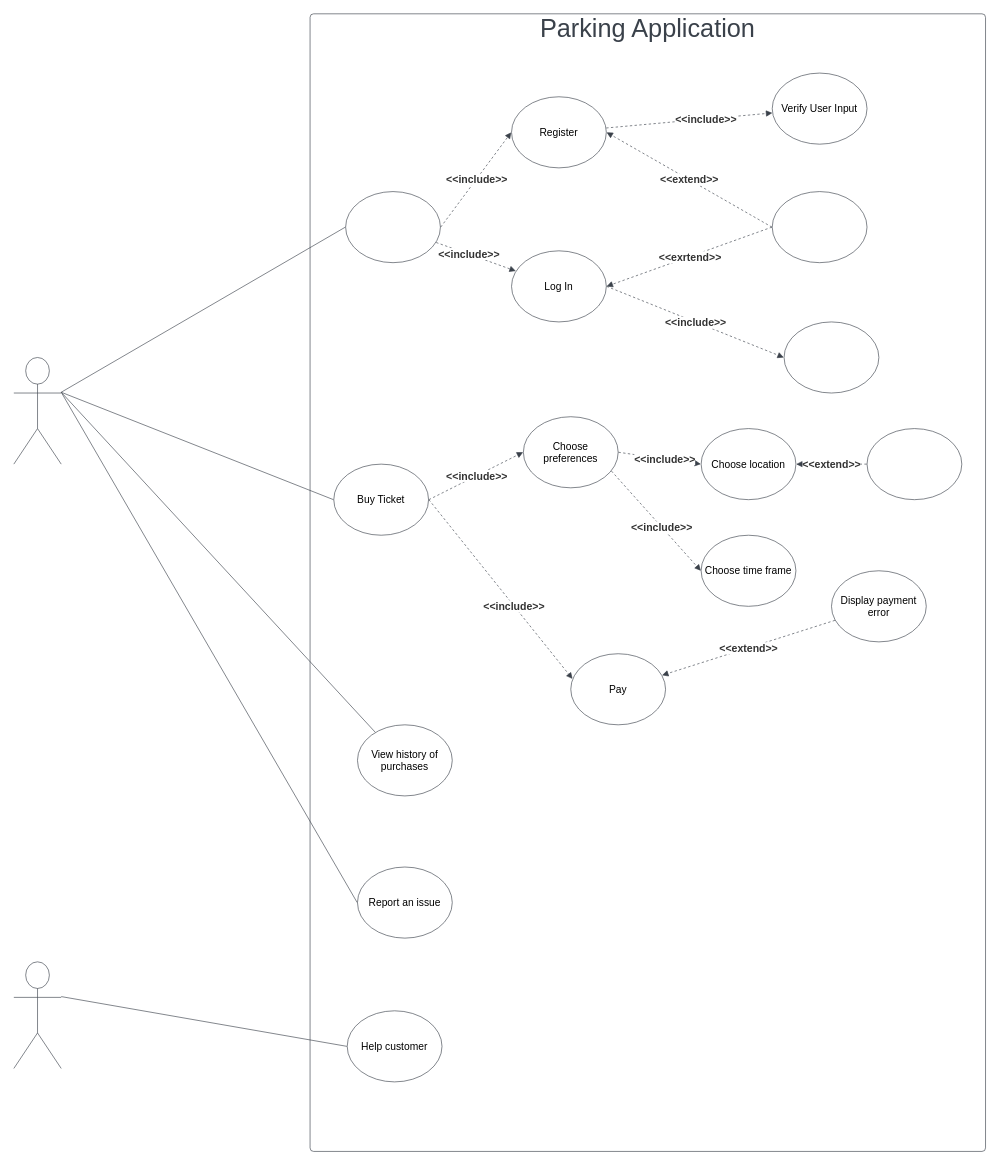
This 999x1165 diagram has some shape labels left out. The centre of each missing label's shape, as x and y in pixels:
Customer: (37,410)
Customer Support: (37,1014)
Display Authentication Error Message: (819,227)
User Authentication: (392,227)
Verify existence of user: (831,357)
View location: (914,464)
